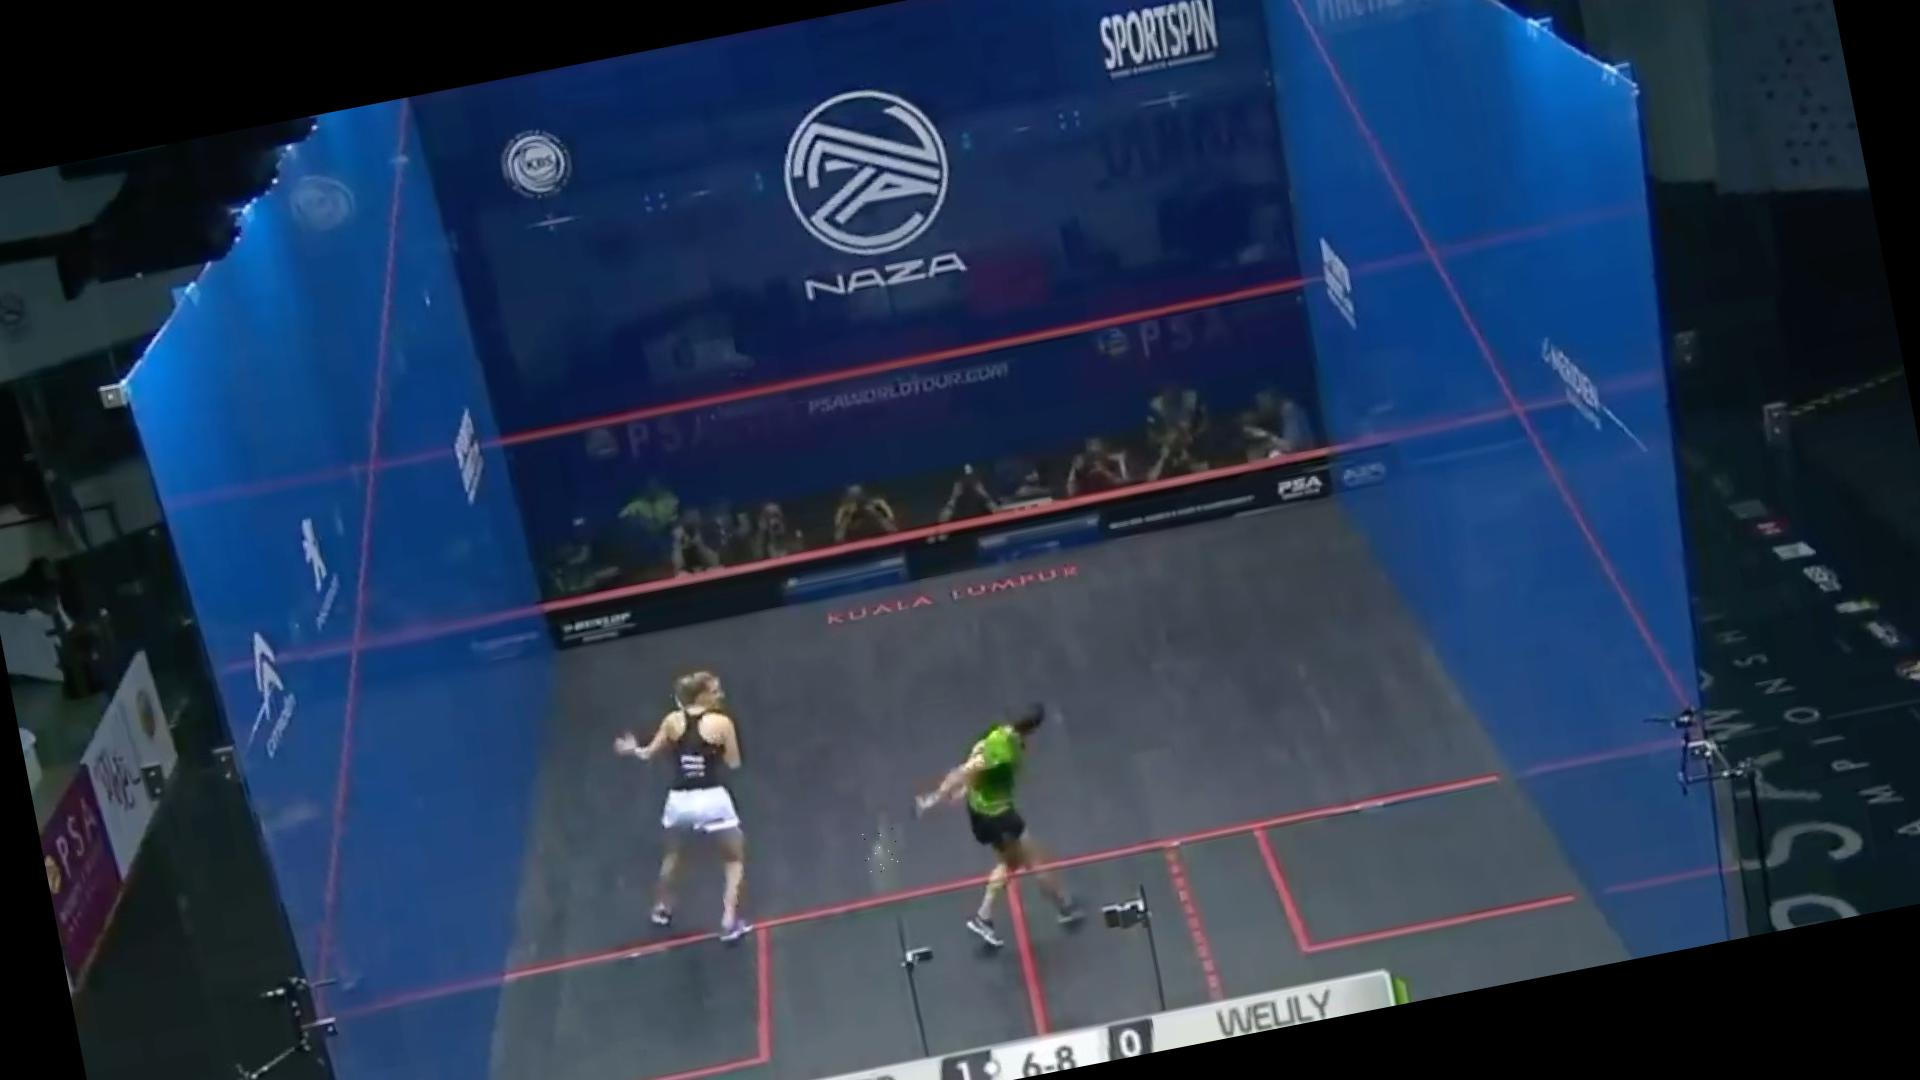Squash-Ball: (857, 823, 905, 877)
